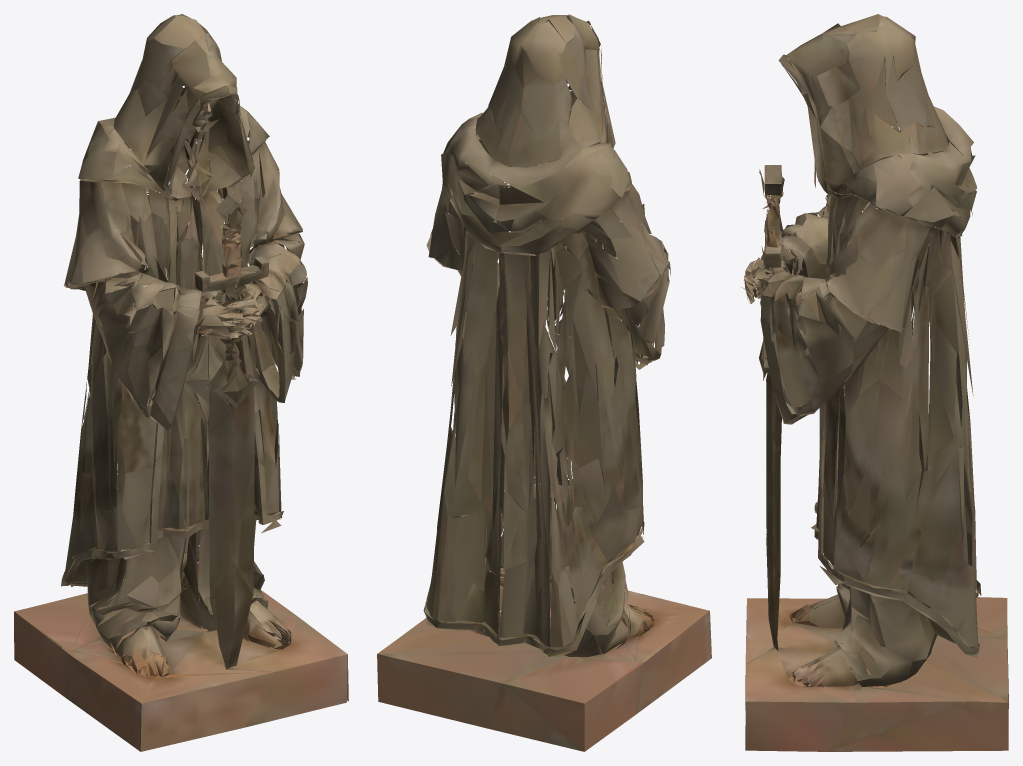
File: statue_v2.glb
3 views of the same model, side by side, from view 1: azimuth 30°, elevation 25°; view 2: azimuth 150°, elevation 25°; view 3: azimuth 270°, elevation 25° (orthographic). The views are drawn at different scales.
Visible parts, largest first — view 1: output_unwrapped; view 2: output_unwrapped; view 3: output_unwrapped.
Boxes of the visible parts, x1,y1,x2,y2 form: output_unwrapped: [14, 14, 348, 751]; output_unwrapped: [377, 14, 711, 751]; output_unwrapped: [741, 14, 1008, 751].
Size of the model in its own units: 0.6826 by 1.9 by 0.6766.
1 material, 1 textured.
